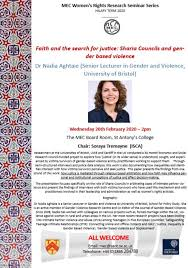middle_eastern_Female: (103, 81, 121, 102)
